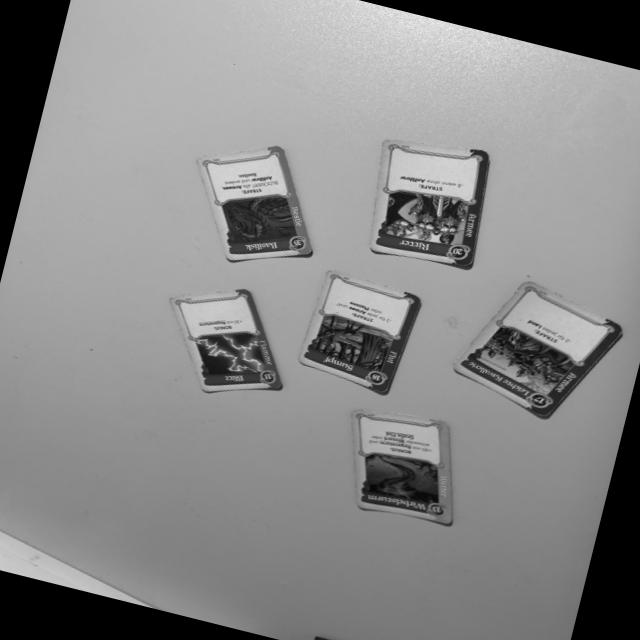Basilisk: (192, 145, 315, 263)
Dwarvish Infantry: (449, 276, 626, 422)
Knights: (365, 134, 487, 266)
Lightning: (168, 288, 285, 393)
Swamp: (295, 267, 421, 395)
Whirlwind: (349, 408, 453, 526)
